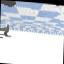drone: (0, 25, 10, 40)
